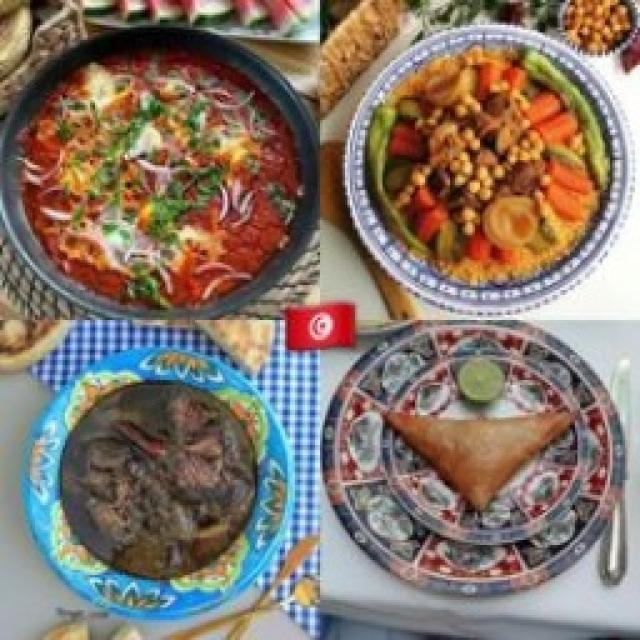Brik: (372, 350, 575, 530)
Couscous: (342, 42, 618, 310)
Melloukhia: (20, 340, 288, 625)
